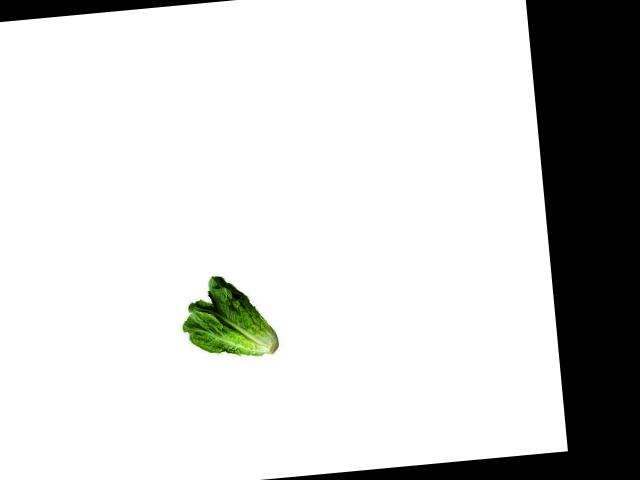lettuce: (178, 266, 285, 370)
